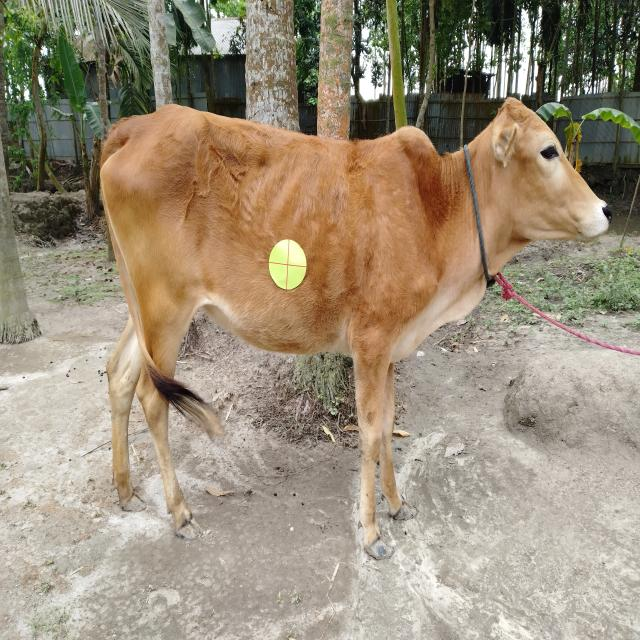badan_sapi: (94, 137, 436, 352)
sapi: (80, 74, 622, 576)
